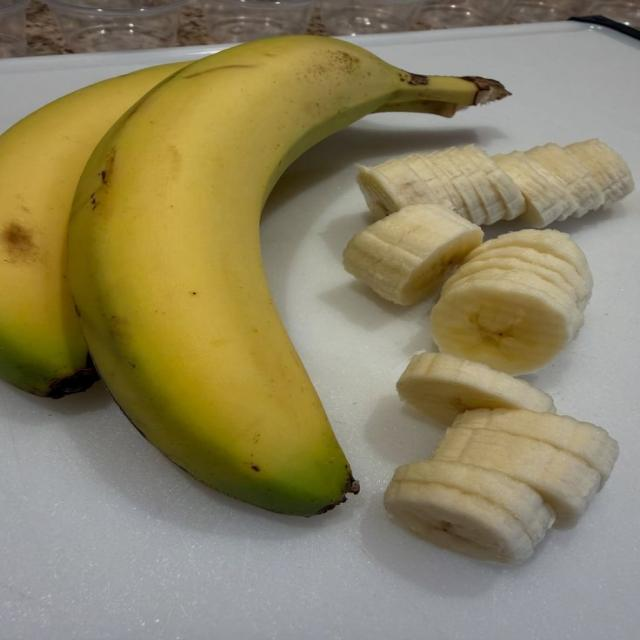banana slice: (433, 414, 600, 527), (385, 460, 554, 563), (431, 272, 582, 375), (343, 205, 483, 305), (458, 408, 618, 486), (397, 353, 555, 426), (441, 268, 584, 335), (443, 248, 586, 310), (461, 246, 592, 309), (467, 229, 593, 294), (493, 151, 577, 228), (356, 157, 453, 218), (526, 143, 604, 217), (458, 145, 526, 223), (447, 146, 509, 224), (565, 139, 634, 208), (426, 148, 486, 225), (416, 154, 473, 221)
unpeal banana: (67, 35, 509, 515), (0, 63, 185, 398)
